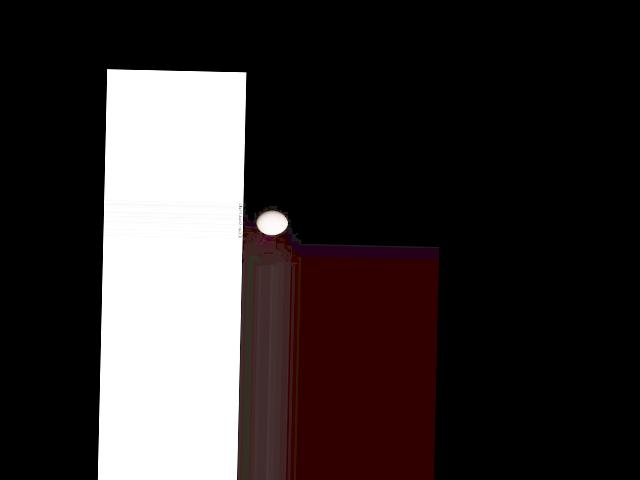egg: (255, 210, 287, 235)
